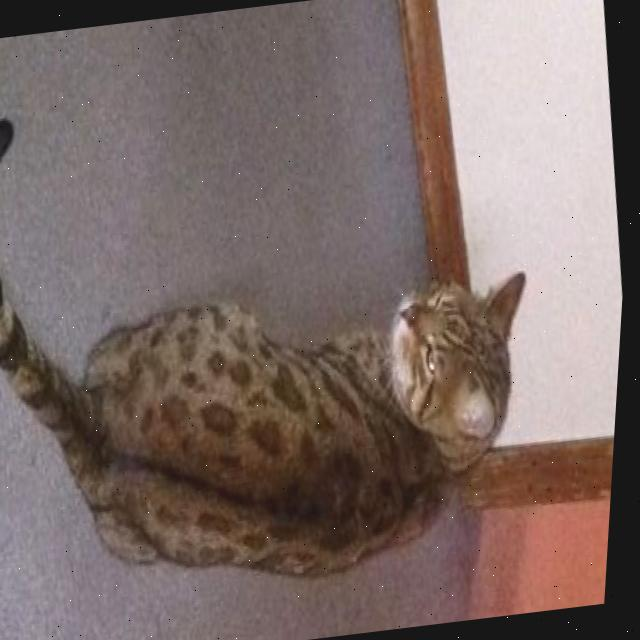Bengal: (0, 44, 585, 632)
